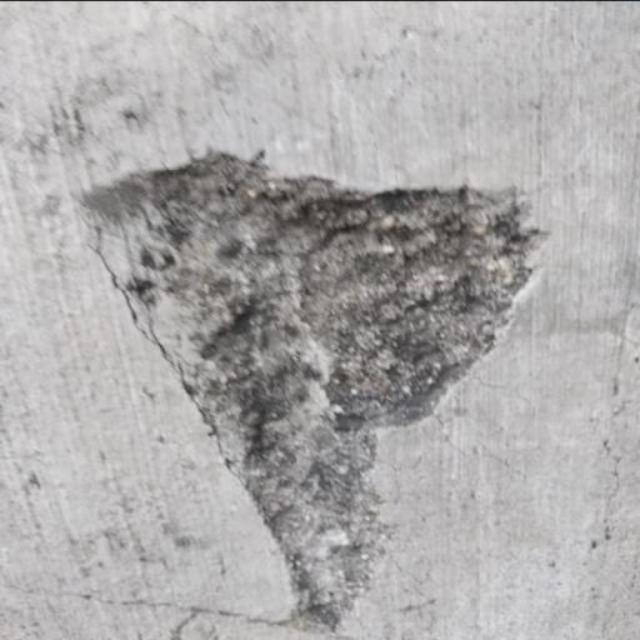D10: (78, 154, 541, 637)
